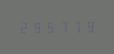five: (44, 20, 56, 34)
nine: (30, 20, 42, 34), (83, 19, 95, 33)
seven: (70, 19, 82, 33), (57, 20, 69, 33)
two: (17, 20, 29, 34)
